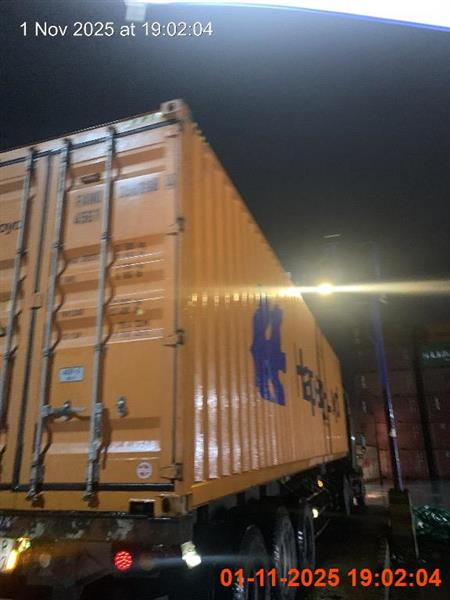hole: (0, 100, 366, 599)
